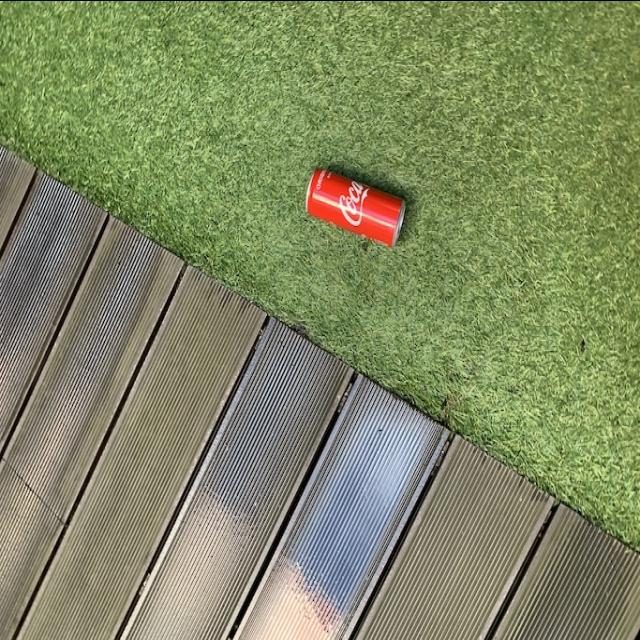litter: (304, 162, 412, 248)
